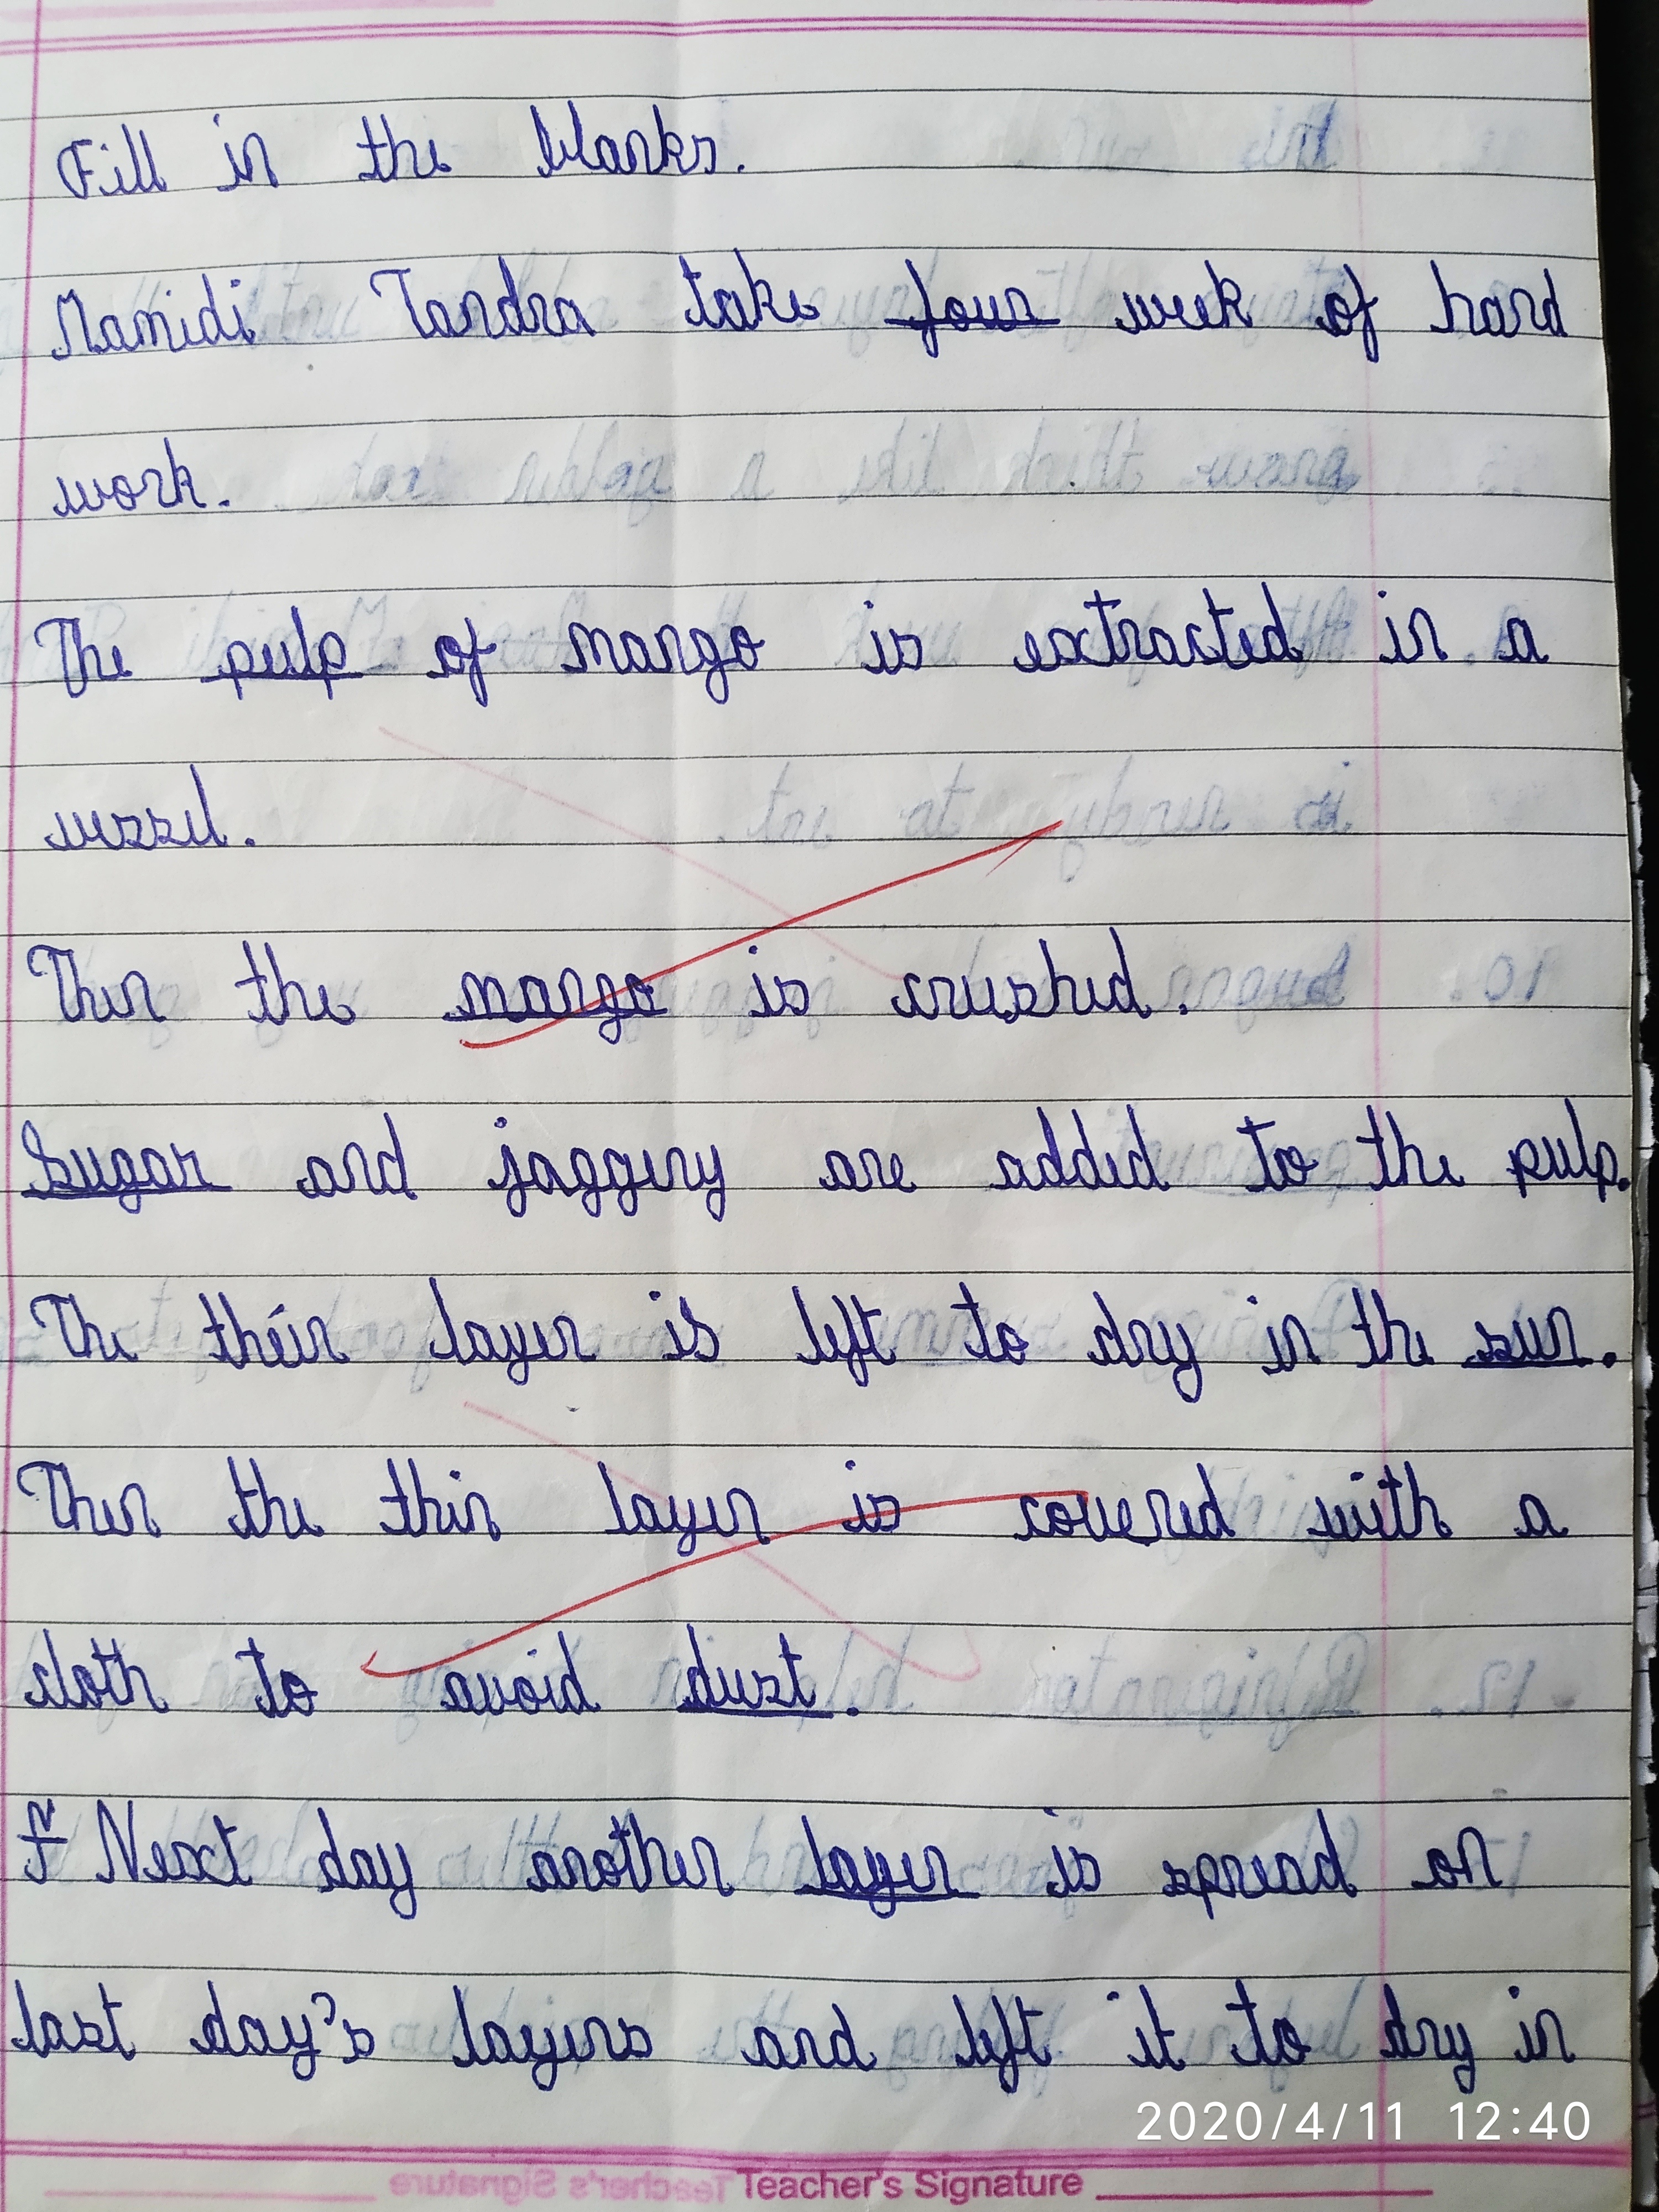F: (70, 138, 98, 199)
M: (54, 287, 99, 354)
N: (94, 1797, 143, 1881)
S: (19, 1118, 77, 1193)
T: (28, 944, 75, 1024), (387, 266, 430, 340), (49, 617, 82, 700), (44, 1292, 78, 1359), (37, 1458, 68, 1529)
a: (1514, 1493, 1561, 1538), (516, 972, 558, 1019), (1504, 615, 1544, 664), (711, 286, 753, 331), (303, 1153, 345, 1198), (525, 1150, 565, 1197), (751, 2024, 791, 2069), (235, 2013, 277, 2055), (481, 2019, 519, 2064), (828, 1844, 864, 1892), (139, 1146, 178, 1190), (995, 1148, 1033, 1191), (462, 1318, 500, 1362), (629, 1491, 667, 1534), (443, 1669, 479, 1714), (1272, 1850, 1309, 1895), (619, 629, 655, 672), (824, 1148, 861, 1191), (1147, 625, 1183, 667), (38, 2008, 73, 2052), (552, 296, 591, 334), (422, 298, 458, 338), (530, 1850, 566, 1890), (349, 1846, 382, 1888), (1478, 294, 1509, 338), (592, 134, 626, 174), (98, 314, 131, 352)
c: (26, 1658, 61, 1707), (1182, 622, 1220, 664), (1014, 1493, 1047, 1538), (901, 972, 931, 1021)
d: (1256, 578, 1305, 662), (1089, 1287, 1134, 1367), (1124, 1103, 1162, 1191), (1107, 925, 1143, 1015), (375, 1111, 413, 1197), (1312, 1808, 1351, 1893), (554, 1629, 592, 1712), (314, 1806, 352, 1890), (1194, 1463, 1234, 1540), (683, 1622, 720, 1705), (1033, 1104, 1070, 1186), (491, 254, 528, 334), (1070, 1108, 1105, 1191), (200, 1979, 237, 2054), (1378, 1982, 1415, 2057), (826, 2001, 866, 2069), (197, 272, 228, 347), (1539, 265, 1568, 338)
e: (1019, 629, 1051, 672), (146, 1839, 176, 1881), (1112, 1496, 1140, 1540), (887, 1151, 910, 1193)
f: (1342, 261, 1382, 364), (464, 615, 498, 707)
g: (688, 625, 732, 705), (601, 1146, 640, 1217), (568, 1144, 603, 1219), (110, 1146, 143, 1216), (594, 972, 624, 1045)
h: (263, 941, 315, 1021), (1427, 258, 1480, 336), (218, 1289, 268, 1367), (1403, 1458, 1450, 1540), (247, 1456, 293, 1538), (1037, 937, 1082, 1017), (1370, 1287, 1415, 1367), (1385, 1109, 1432, 1186), (627, 1811, 674, 1886), (110, 1635, 157, 1709), (406, 1456, 446, 1534), (59, 1461, 99, 1534), (68, 1292, 110, 1362), (378, 111, 422, 178), (68, 617, 110, 681), (66, 949, 103, 1022)
i: (1105, 1989, 1157, 2066), (1246, 1292, 1286, 1372), (647, 1289, 688, 1360), (1349, 1470, 1391, 1541), (1042, 1808, 1073, 1895), (211, 111, 246, 186), (1375, 589, 1410, 662), (861, 597, 892, 674), (842, 1458, 873, 1531), (1507, 1984, 1537, 2060), (748, 944, 777, 1015), (275, 1303, 308, 1366), (526, 1646, 559, 1709), (228, 277, 256, 343), (166, 287, 195, 347), (99, 141, 131, 195), (444, 1470, 464, 1536)
j: (493, 1115, 530, 1219)
k: (732, 246, 784, 324), (1202, 260, 1255, 327), (162, 435, 207, 509), (650, 103, 688, 174)
l: (429, 1275, 467, 1367), (188, 761, 228, 846), (789, 1282, 830, 1364), (42, 1627, 77, 1709), (451, 1982, 484, 2066), (596, 1460, 633, 1534), (950, 1993, 985, 2066), (1563, 1097, 1595, 1177), (800, 1811, 831, 1888), (9, 1979, 40, 2052), (120, 122, 150, 193), (289, 604, 317, 679), (138, 127, 169, 192), (565, 98, 592, 169)
m: (566, 620, 622, 674), (460, 970, 512, 1017), (131, 308, 179, 350)
n: (1457, 1824, 1499, 1888), (1281, 1312, 1324, 1367), (1534, 2006, 1575, 2062), (1406, 604, 1446, 660), (120, 968, 160, 1021), (240, 131, 277, 186), (340, 1141, 376, 1195), (653, 624, 690, 676), (1546, 1305, 1581, 1359), (554, 967, 592, 1015), (458, 289, 495, 340), (462, 1491, 500, 1534), (1506, 286, 1539, 334), (789, 2026, 824, 2067), (624, 129, 655, 174), (561, 1844, 592, 1890)
o: (277, 1667, 319, 1717), (1272, 2017, 1307, 2066), (1424, 1844, 1460, 1890), (995, 1318, 1030, 1366), (1272, 1144, 1309, 1188), (624, 972, 659, 1017), (728, 625, 762, 672), (1323, 291, 1356, 336), (509, 1674, 544, 1716), (434, 634, 467, 676), (591, 1848, 624, 1888), (1044, 1500, 1077, 1538), (110, 474, 138, 510)
p: (1506, 1136, 1542, 1200), (317, 631, 347, 700), (1194, 1851, 1223, 1921), (225, 639, 256, 700), (1595, 1139, 1619, 1205)
qqbslash: (1270, 2102, 1290, 2142), (1331, 2102, 1349, 2142)
qqcolon: (1509, 2101, 1525, 2142)
qqfour: (1528, 2101, 1560, 2142), (1295, 2101, 1324, 2141)
qqfstop: (1600, 1350, 1617, 1369), (1615, 1177, 1631, 1193), (845, 1705, 861, 1721), (1176, 1001, 1190, 1017), (242, 836, 256, 850), (218, 498, 230, 510), (735, 162, 746, 174)
qqone: (1448, 2101, 1467, 2144), (1387, 2101, 1405, 2142), (1359, 2101, 1377, 2142)
qqtwo: (1474, 2101, 1502, 2142), (1134, 2101, 1162, 2142), (1202, 2101, 1229, 2142)
qqzero: (1563, 2101, 1591, 2142), (1236, 2101, 1263, 2142), (1169, 2101, 1197, 2142)
r: (169, 1141, 214, 1188), (857, 1146, 889, 1188)
s: (678, 1296, 720, 1360), (1473, 1318, 1514, 1362), (772, 974, 812, 1017), (864, 1489, 903, 1534), (340, 2017, 378, 2062), (617, 2015, 655, 2060), (887, 627, 924, 672), (1068, 1844, 1103, 1892), (1006, 975, 1044, 1017), (70, 2008, 106, 2052), (1159, 1858, 1194, 1897), (110, 810, 145, 846), (749, 1669, 784, 1705), (145, 806, 176, 846)
t: (1138, 1982, 1185, 2069), (1230, 1979, 1274, 2066), (953, 1280, 999, 1362), (1234, 1113, 1279, 1193), (849, 1294, 897, 1366), (237, 939, 277, 1024), (1199, 585, 1239, 669), (244, 1635, 284, 1717), (225, 1454, 263, 1536), (674, 253, 714, 329), (380, 1456, 418, 1536), (1084, 589, 1124, 664), (777, 1632, 816, 1709), (1349, 1285, 1384, 1367), (1361, 1103, 1394, 1188), (1378, 1461, 1413, 1540), (197, 1292, 234, 1364), (211, 1811, 246, 1886), (608, 1815, 641, 1890), (89, 1637, 124, 1703), (1014, 1993, 1046, 2062), (356, 115, 387, 183), (98, 1982, 127, 2054)
u: (68, 1146, 110, 1190), (958, 972, 999, 1017), (1511, 1315, 1549, 1362), (1539, 1136, 1577, 1181), (260, 639, 296, 678), (714, 1665, 749, 1705)
v: (474, 1670, 512, 1714)
w: (1312, 1494, 1366, 1541), (54, 474, 110, 514), (1119, 289, 1169, 329)
x: (1042, 625, 1100, 665), (171, 1839, 218, 1885)
y: (1155, 1320, 1204, 1406), (375, 1841, 418, 1919), (694, 1143, 728, 1224), (281, 2012, 321, 2081), (519, 2022, 559, 2092), (1445, 2020, 1478, 2095), (498, 1320, 532, 1388), (667, 1494, 701, 1557)
